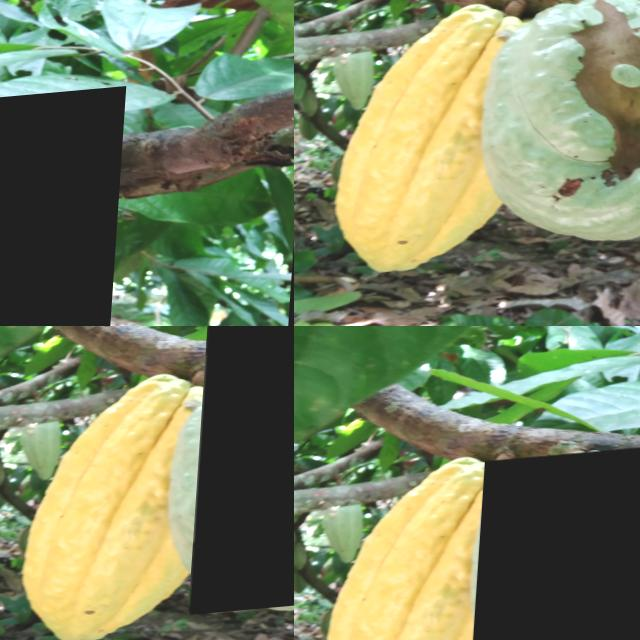Monilia: (195, 326, 294, 619)
Sana: (325, 450, 533, 640), (475, 450, 640, 640), (0, 95, 128, 326), (380, 190, 410, 234), (517, 261, 540, 301), (372, 183, 386, 210), (571, 297, 586, 320)
